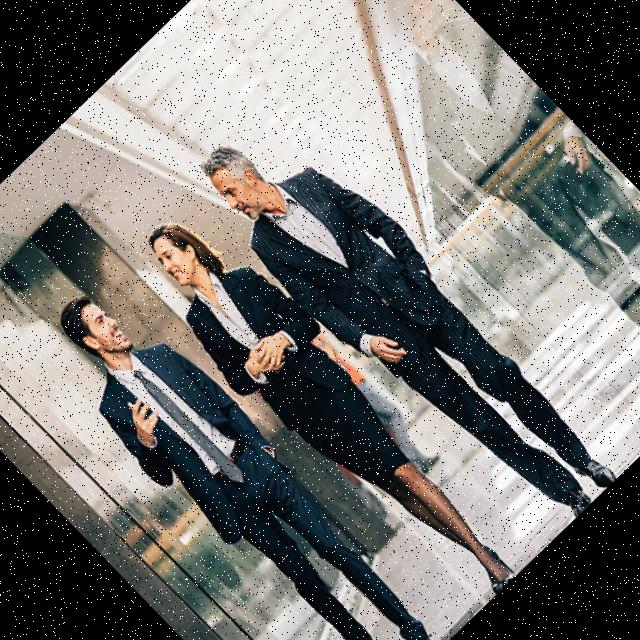Person: (177, 91, 631, 554), (113, 192, 540, 627), (20, 265, 458, 640)
